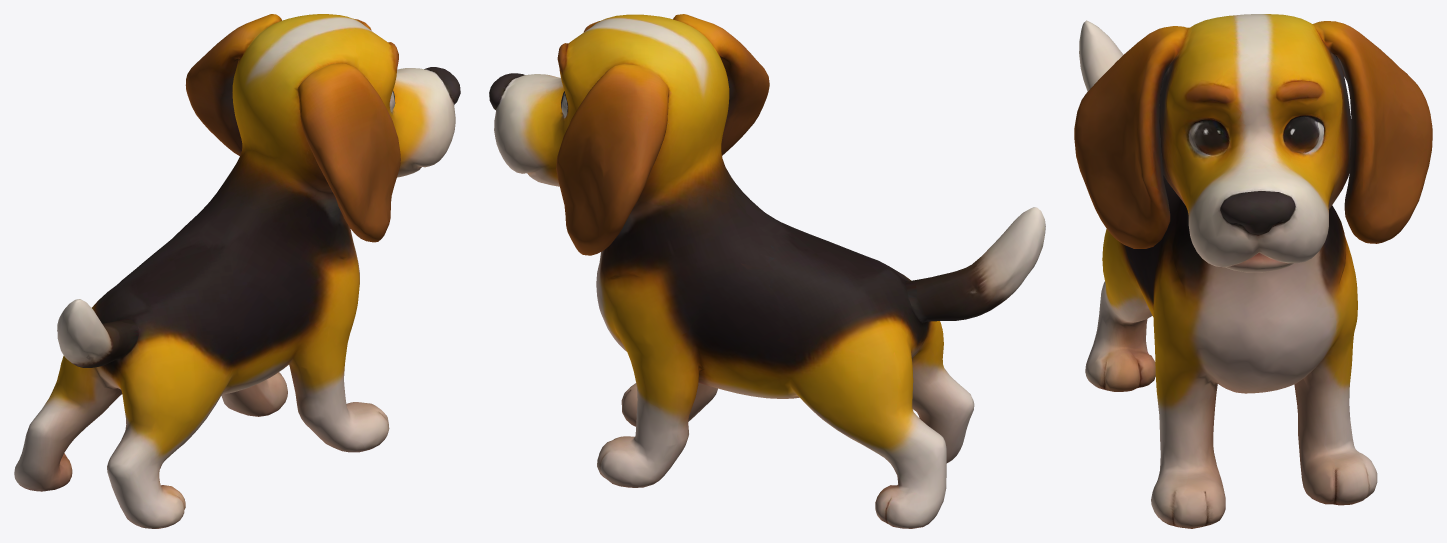
File: beagle.glb
3 views of the same model, side by side, from view 1: azimuth 30°, elevation 25°; view 2: azimuth 150°, elevation 25°; view 3: azimuth 270°, elevation 25° (orthographic). The views are drawn at different scales.
Visible parts, largest first — view 1: tripo_node_52c92ddf-acd1-4751-948f-7e27b8f87bf7; view 2: tripo_node_52c92ddf-acd1-4751-948f-7e27b8f87bf7; view 3: tripo_node_52c92ddf-acd1-4751-948f-7e27b8f87bf7.
Part boxes in pixels (x1,y1,x2,y2): tripo_node_52c92ddf-acd1-4751-948f-7e27b8f87bf7: (14, 14, 460, 528); tripo_node_52c92ddf-acd1-4751-948f-7e27b8f87bf7: (489, 14, 1045, 528); tripo_node_52c92ddf-acd1-4751-948f-7e27b8f87bf7: (1074, 14, 1432, 528).
Size of the model in its own units: 1 by 0.8335 by 0.5589.
1 material, 1 textured.
